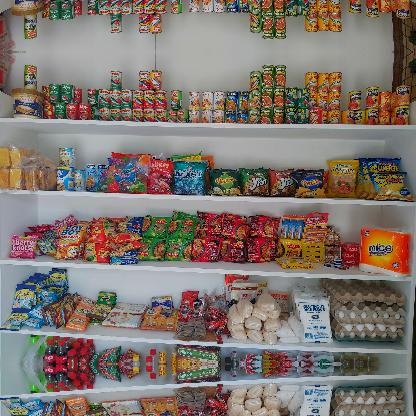Lady-s-Choice: (10, 87, 44, 121), (10, 0, 45, 18)
